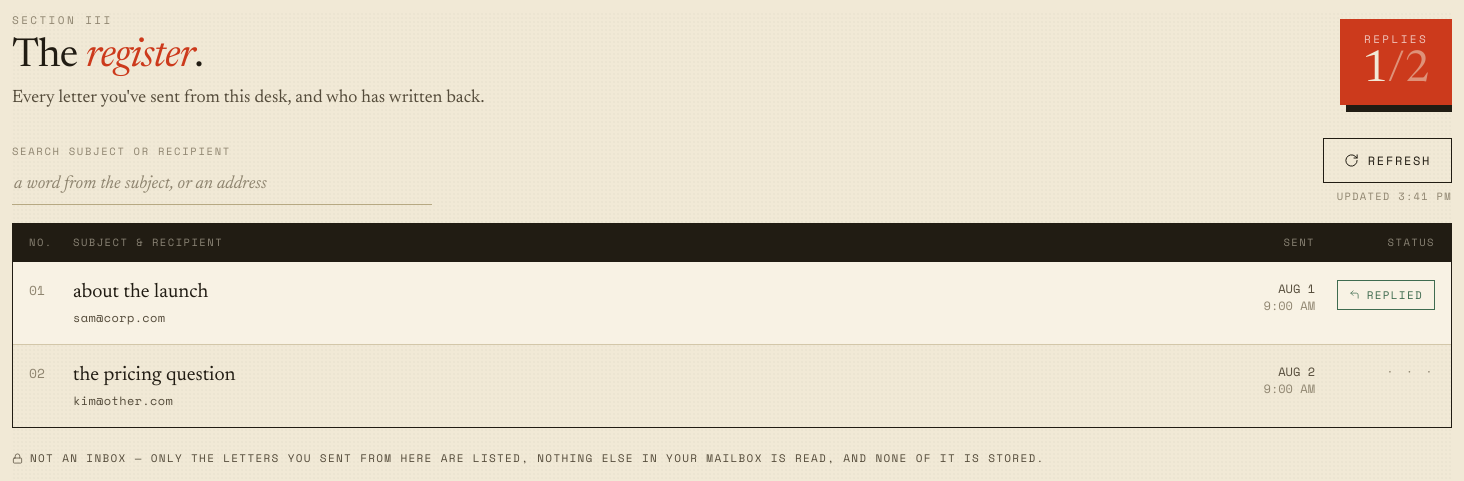
Test: ThreadsPage — searching the register › distinguishes an empty search result from having sent nothing
The width and height of the screenshot is (1464, 481).
Check: the text "about the launch" is shown, box [73,282,208,302]
In the search field labelled "Search subject or recipient": (222, 185) [12,165,432,205], type "zzz"
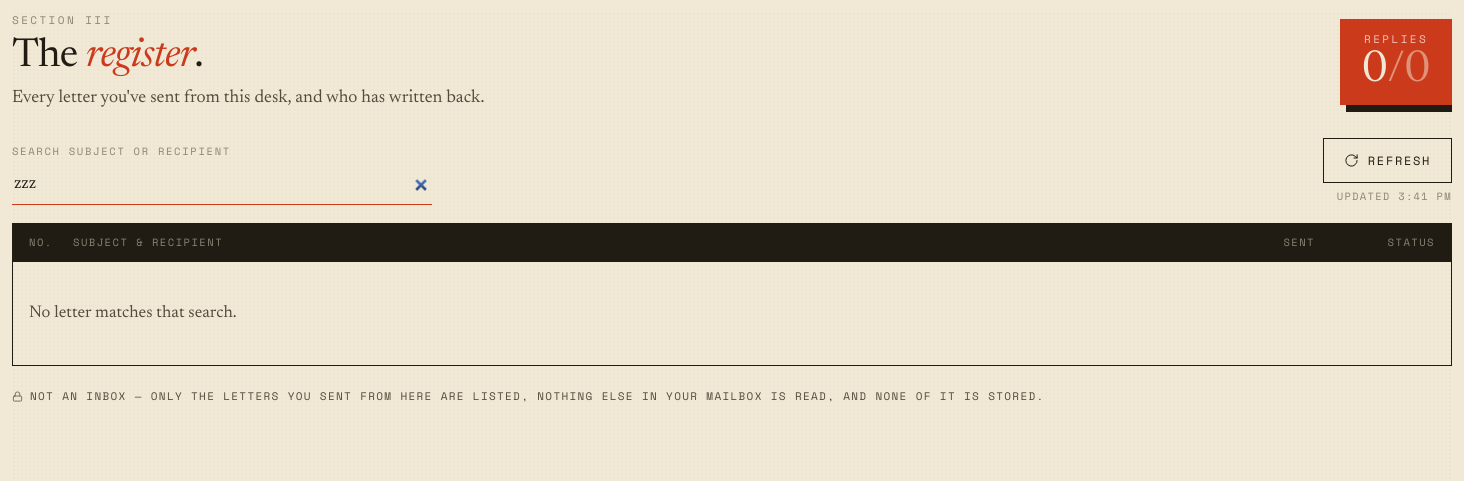
Check: the text "No letter matches that search." is shown, box [29,305,236,322]
